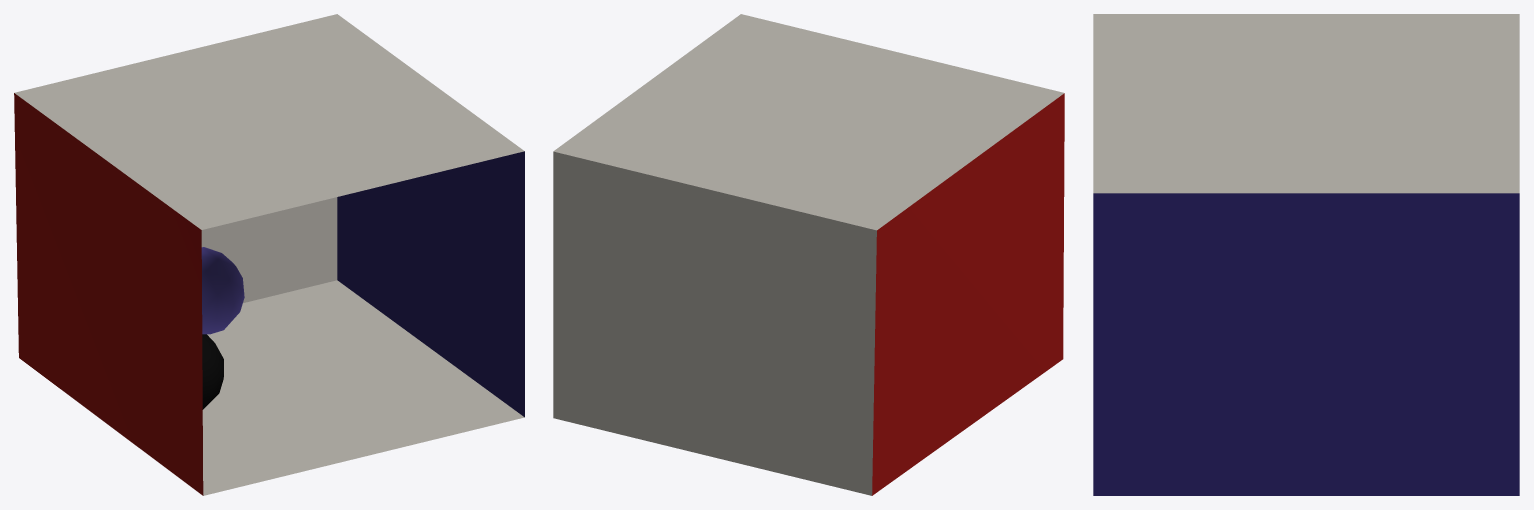
Rendered from CornellBox-Sphere-919.obj.
3 renders of one model, left to right at view 1: azimuth 30°, elevation 25°; view 2: azimuth 150°, elevation 25°; view 3: azimuth 270°, elevation 25°, orthographic. The views are drawn at different scales.
Parts seen in each view (by area): view 1: ceiling, leftWall, floor, rightWall, backWall, leftSphere, rightSphere; view 2: backWall, ceiling, leftWall; view 3: rightWall, ceiling.
Part boxes in pixels (bbox=[...]): ceiling: bbox=[14, 14, 524, 229]; leftWall: bbox=[14, 93, 203, 495]; floor: bbox=[202, 280, 524, 495]; rightWall: bbox=[337, 151, 524, 417]; backWall: bbox=[201, 197, 337, 302]; leftSphere: bbox=[201, 247, 244, 334]; rightSphere: bbox=[202, 334, 223, 409]; backWall: bbox=[553, 151, 876, 495]; ceiling: bbox=[553, 14, 1064, 230]; leftWall: bbox=[872, 93, 1064, 495]; rightWall: bbox=[1093, 193, 1519, 495]; ceiling: bbox=[1093, 14, 1519, 193].
Bounding box in the file's own units: 2.02 × 1.59 × 2.03.
